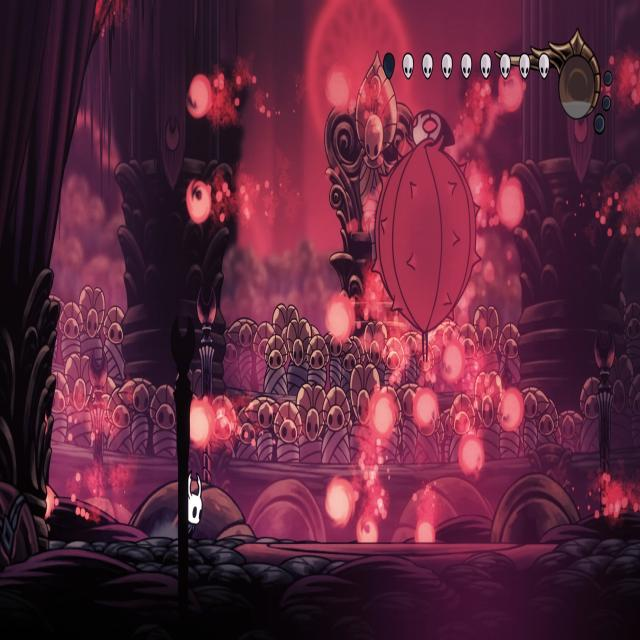Player: (179, 465, 205, 542)
Pufferfish: (370, 107, 484, 368)
Tiny Fireballs: (495, 177, 524, 231), (324, 294, 354, 345), (326, 477, 354, 524), (188, 400, 214, 450), (369, 390, 396, 438), (326, 66, 352, 114), (457, 433, 483, 478), (187, 75, 212, 121), (187, 180, 212, 224), (440, 339, 464, 384), (413, 389, 438, 431), (500, 389, 524, 432), (355, 517, 377, 544), (415, 522, 434, 543)
